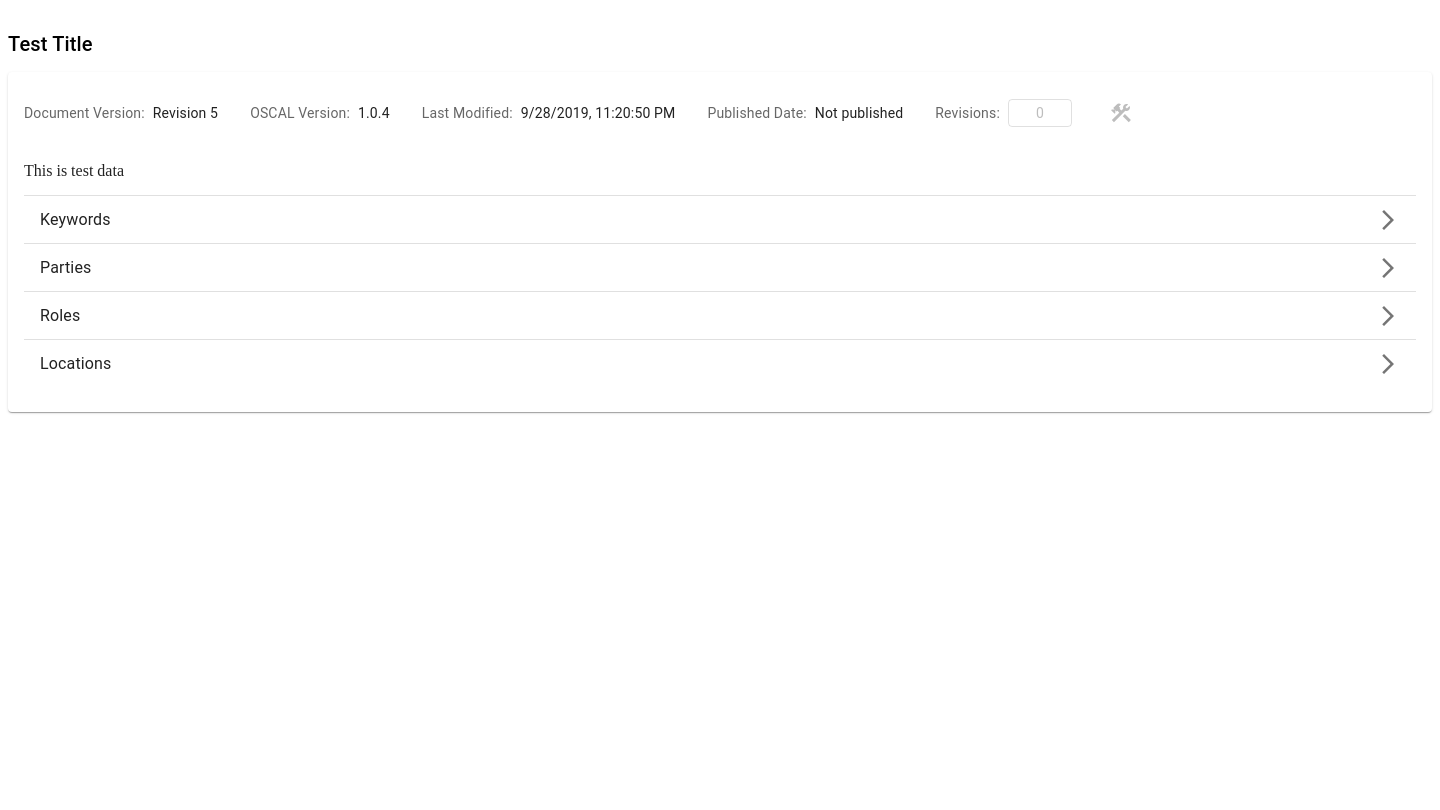
Test case: OSCAL metadata roles › displays role dialog box
Click the button "Roles" at [60, 316], box [40,304,1400,328]
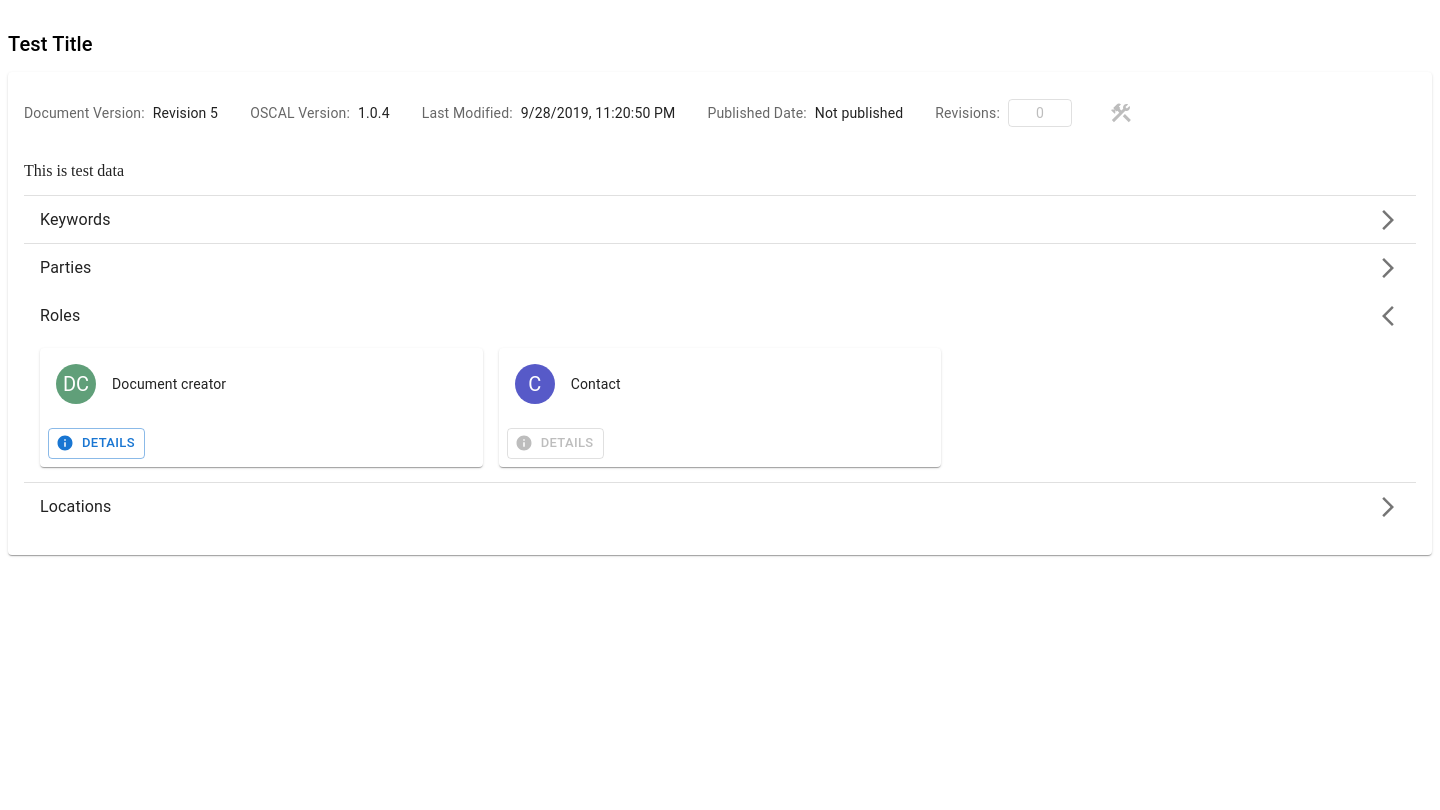
Click the button with aria-label "document creator details button" at [96, 443], box [48,428,145,459]
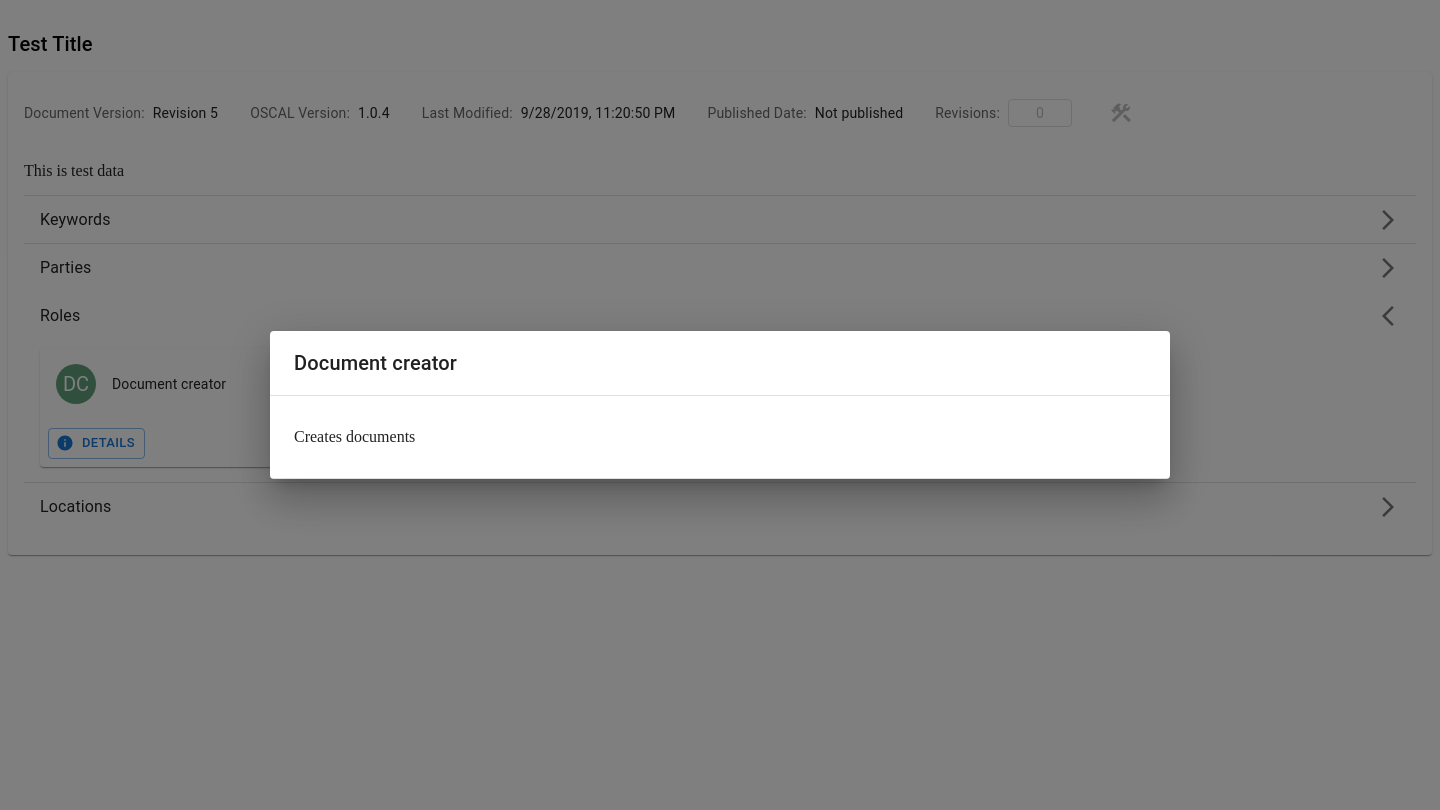
Expected: the heading "Document creator" is shown, [294,351,457,375]
Expected: the text "Creates documents" is shown, [294,428,415,445]
